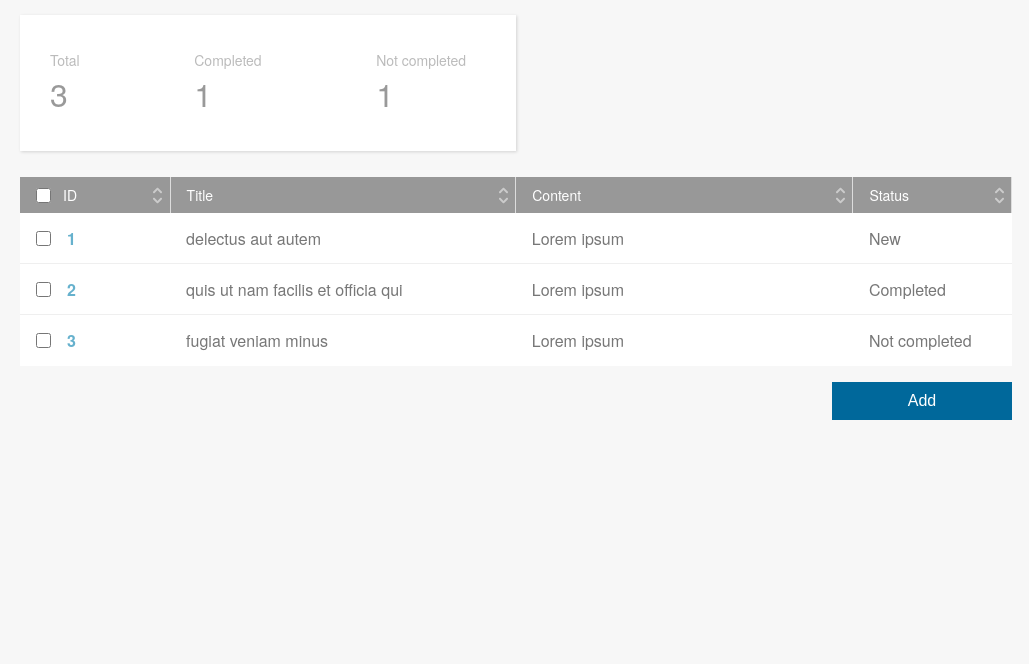
Notes handling › creates new todo with XSS
Check: the element with class "todos-table__button-add" is enabled
Step 1. Click the button with class "todos-table__button-add" → click(922, 401), box [832,382,1012,420]
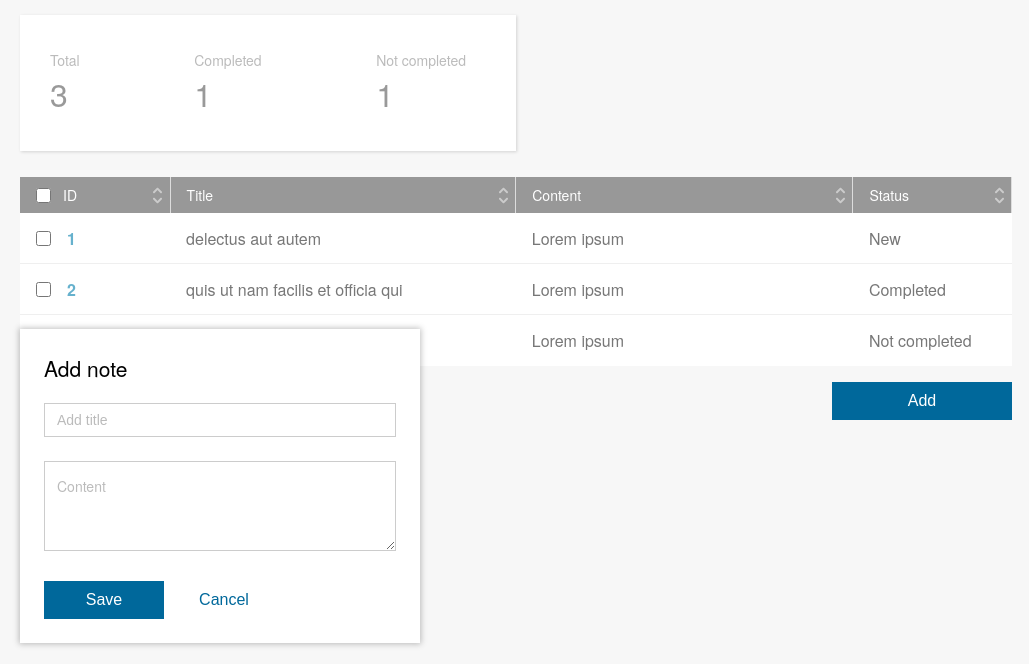
Step 2. Type "New todo 2\"><script>alert(\"XSS\")</script>" into the field with placeholder "Add title" → (220, 420), box [44,403,396,437]
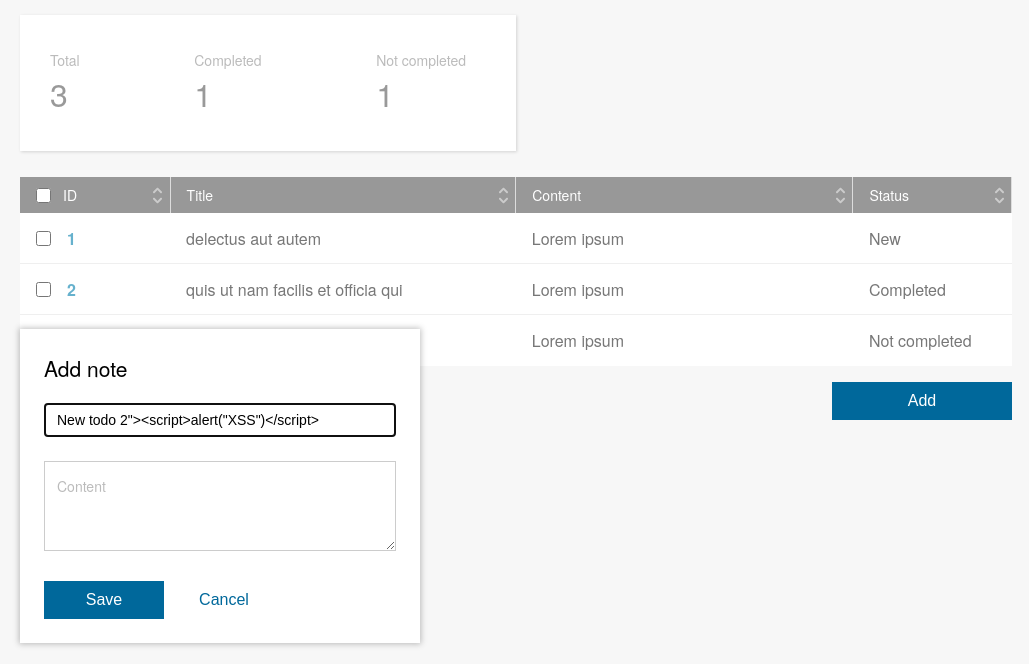
Step 3. Type "Lorem ipsum 2 <script>alert(\"Hello\")</script>" into the text box with placeholder "Content" → (220, 506), box [44,461,396,551]
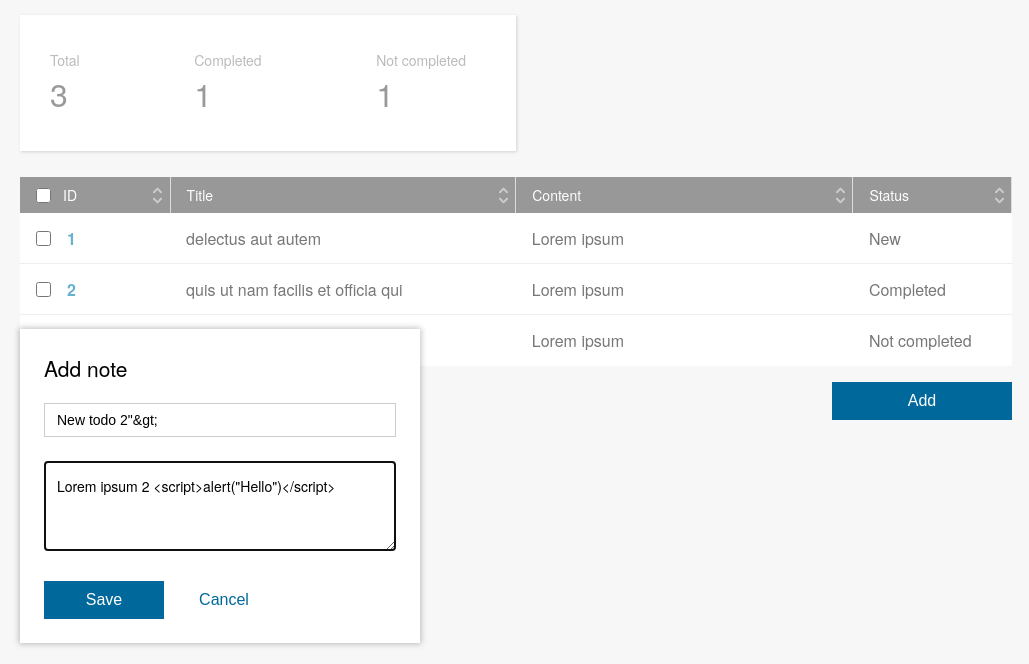
Step 4. Click the button "Save" → click(104, 600), box [44,581,164,619]
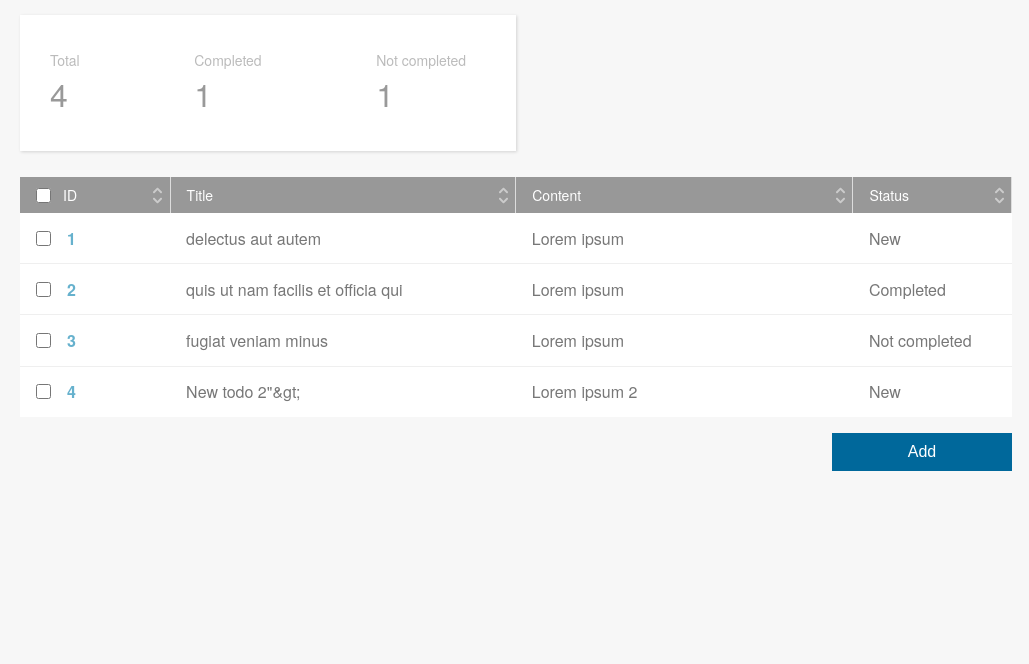
Check: the text "New todo 2\"&gt;" is shown, box [170,366,516,417]
Check: the text "Lorem ipsum 2" is shown, box [516,366,853,417]
